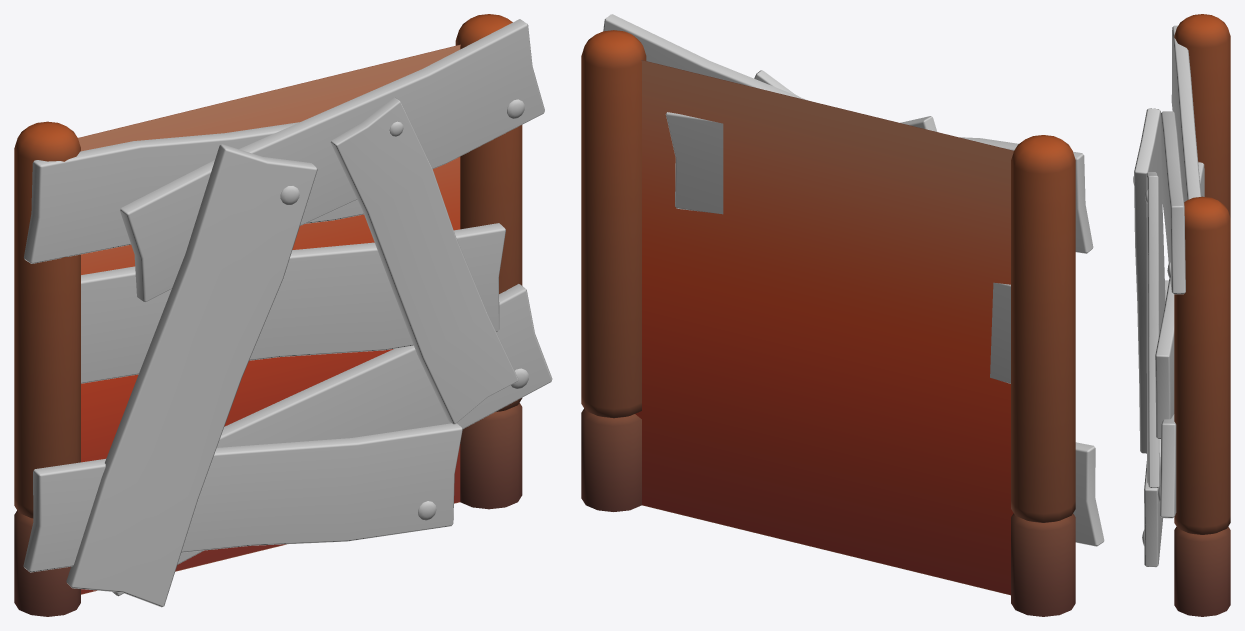
Rendered from locked booster.fbx.
3 renders of one model, left to right at view 1: azimuth 30°, elevation 25°; view 2: azimuth 150°, elevation 25°; view 3: azimuth 270°, elevation 25°, orthographic. The views are drawn at different scales.
Parts seen in each view (by area): view 1: Plane.007, Circle.008, Plane.004; view 2: Plane.004, Circle.008, Plane.007; view 3: Circle.008, Plane.007.
Part boxes in pixels (<box>): Plane.007: <box>23,19,552,607</box>; Circle.008: <box>14,14,522,616</box>; Plane.004: <box>78,44,460,594</box>; Plane.004: <box>635,60,1013,595</box>; Circle.008: <box>581,30,1075,616</box>; Plane.007: <box>603,14,1104,546</box>; Circle.008: <box>1174,14,1230,616</box>; Plane.007: <box>1133,25,1204,567</box>.
Bounding box in the file's own units: 250 × 220 × 47.67.
